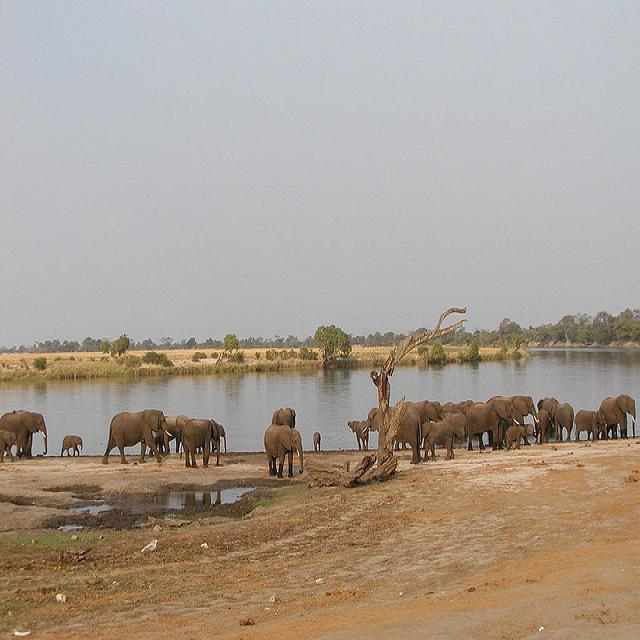Elephant: (102, 408, 171, 464), (485, 394, 539, 446), (0, 409, 47, 459), (263, 424, 303, 477), (179, 417, 220, 467), (598, 393, 636, 439), (574, 409, 606, 442), (347, 418, 370, 451), (271, 407, 295, 428), (60, 435, 82, 456), (312, 430, 320, 450)
